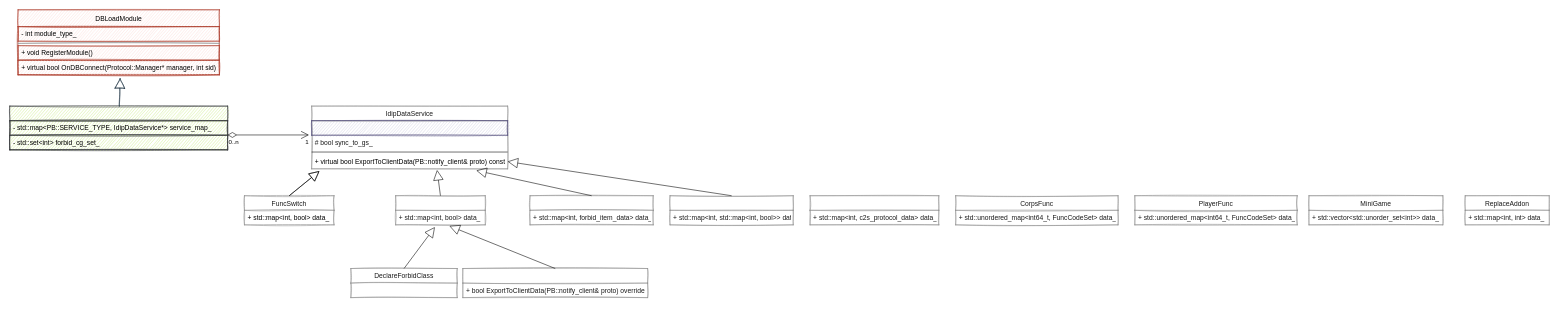
Image size: 1559x309. Some labels were removed from this diagram. The shapes that lost their labels are listed below. From the top down, each one's box as (x1, y1, x2, y2) in pixels, then its label:
(9, 106, 228, 150): IdIpDataManager 单例
(311, 120, 508, 135): # PB::SERVICE_TYPE service_type_
(395, 195, 485, 225): ForbidData
(529, 195, 653, 225): NpcShopItem
(669, 195, 793, 225): SceneSpawn
(809, 195, 939, 225): C2SProtocol
(462, 268, 648, 298): DeclareToCForbidClass
